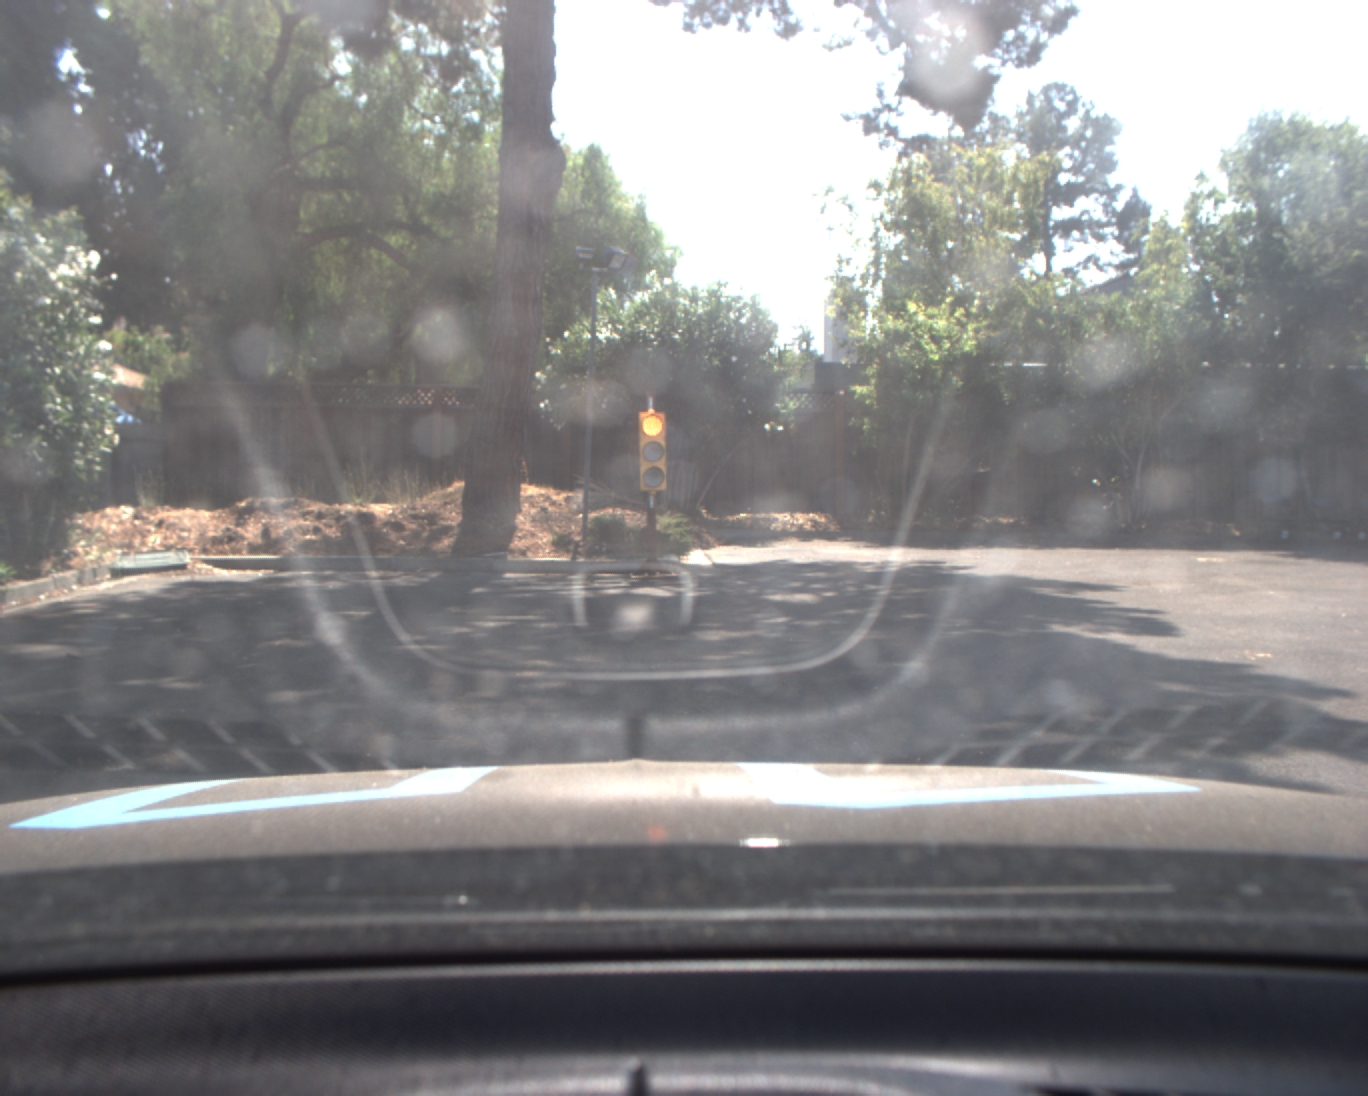red: (639, 410, 668, 494)
